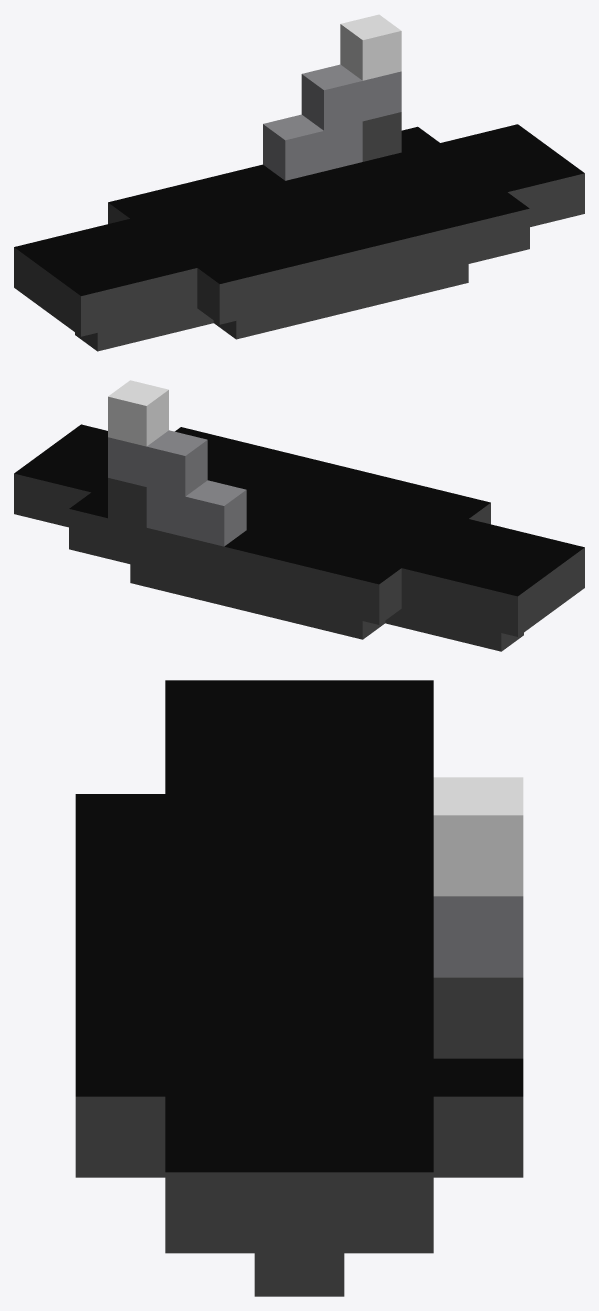
File: carrier.glb
3 renders of one model, top to bottom at view 1: azimuth 30°, elevation 25°; view 2: azimuth 150°, elevation 25°; view 3: azimuth 270°, elevation 25°, orthographic. The views are drawn at different scales.
Parts seen in each view (by area): view 1: carrier; view 2: carrier; view 3: carrier.
Boxes of the visible parts, <box> form: carrier: <box>14,14,584,351</box>; carrier: <box>14,380,584,651</box>; carrier: <box>75,680,523,1296</box>.
Bounding box in the file's own units: 0.6204 × 0.2386 × 0.2386.
Materials: 1 (1 with a texture image).
